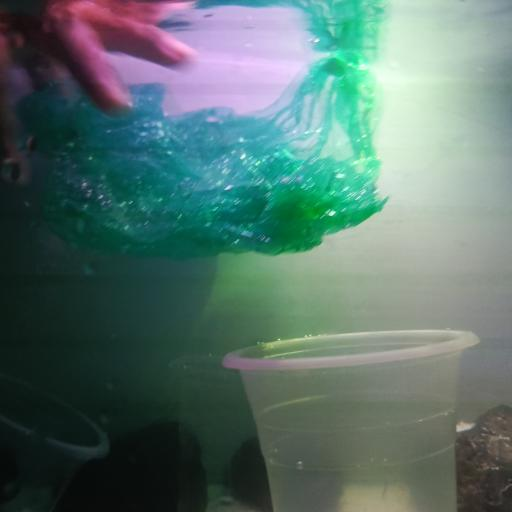plastic_bag: (2, 49, 392, 265)
plastic_cup: (221, 324, 480, 512), (0, 367, 109, 512)
